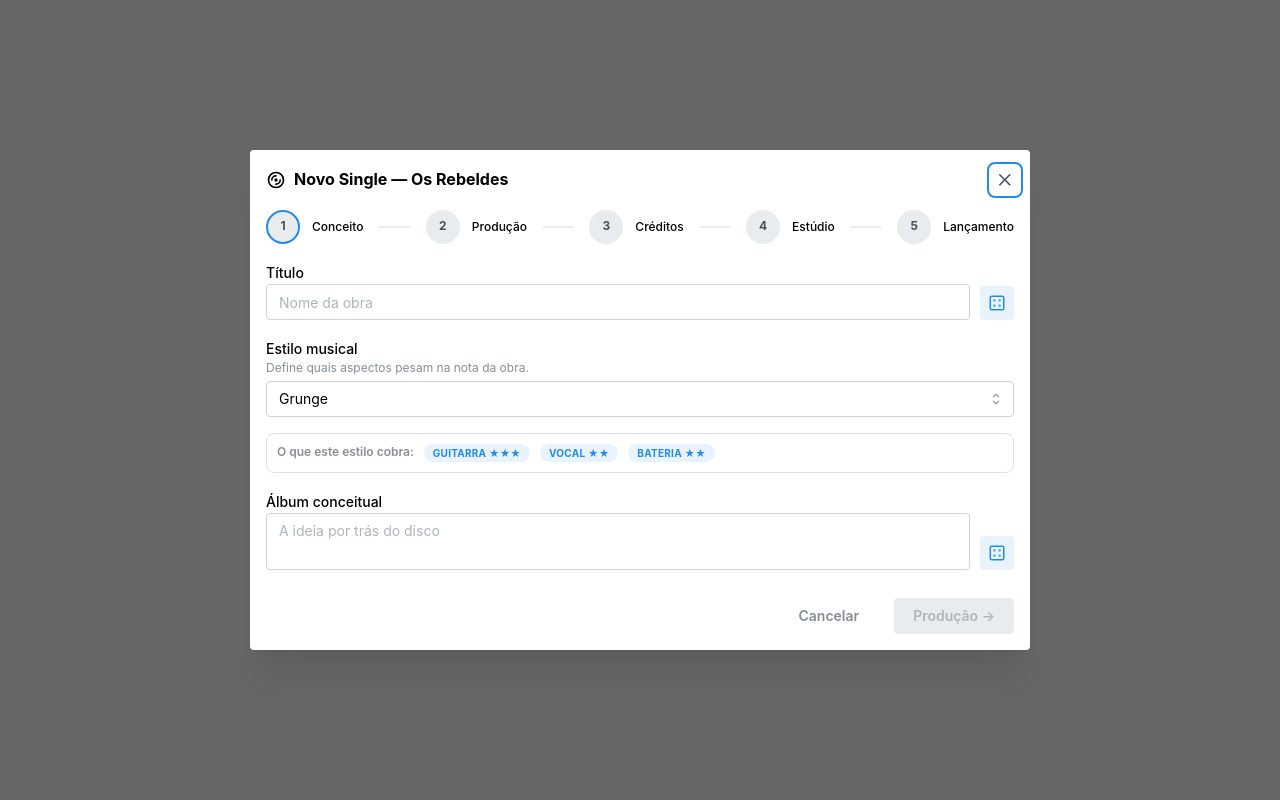
Scenario: ReleaseCreationModal › also fills an instrument from the instrument itself, ranked by skill
Type "Ruído Branco" into the field labelled "Título" at (618, 302), box [266,284,970,320]
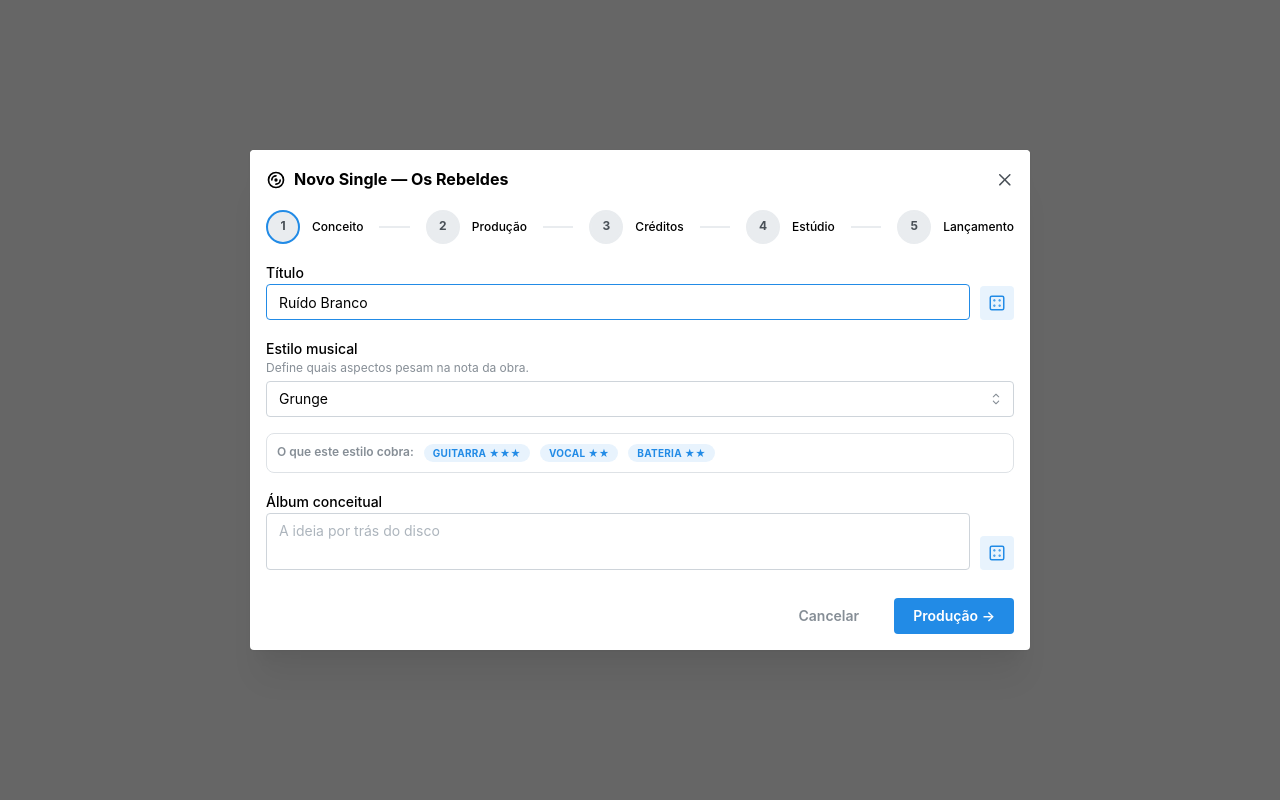
Click the button "Produção →" at (954, 616), box [894,598,1014,634]
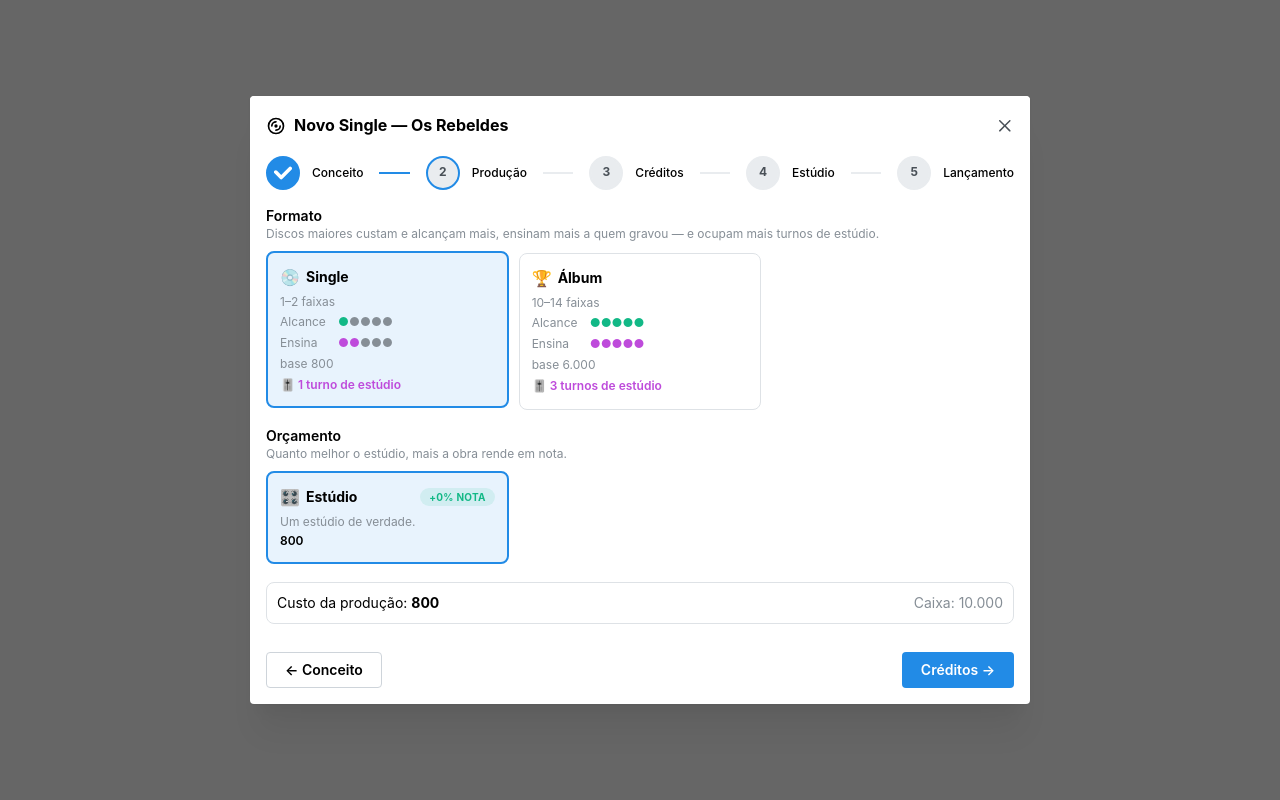
Click the button "Créditos →" at (958, 670), box [902,652,1014,688]
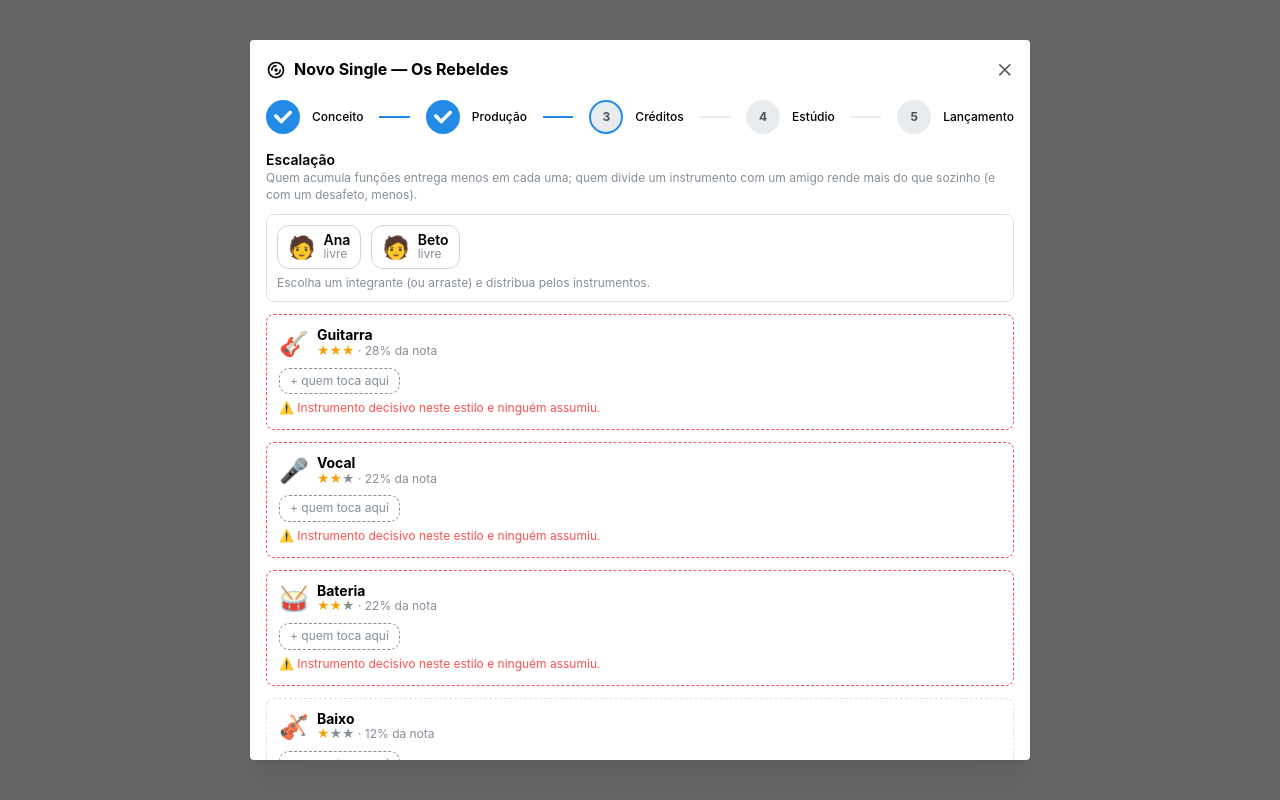
Click the button with aria-label "Escolher quem assina Vocal" at (339, 509), box [279,495,400,522]
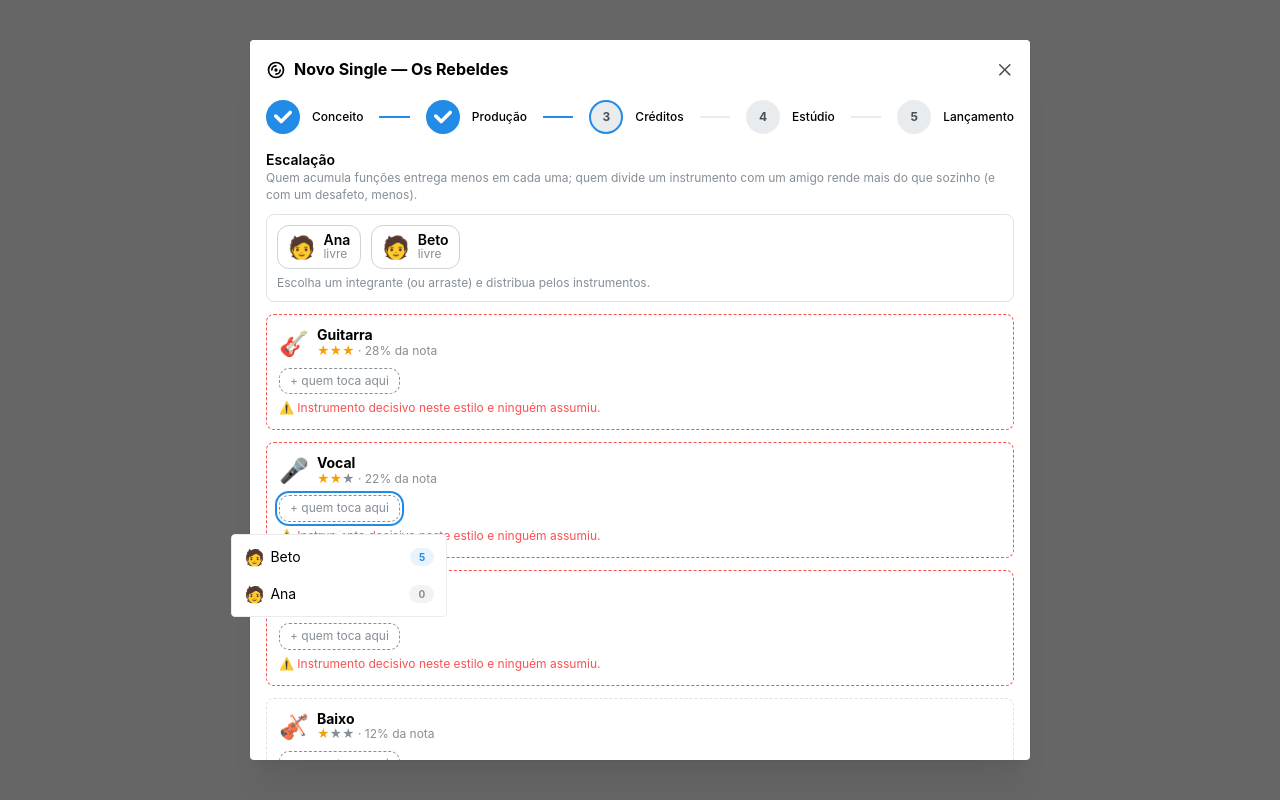
Click the button with aria-label "Creditar Beto em Vocal" at (339, 557), box [238,541,440,574]
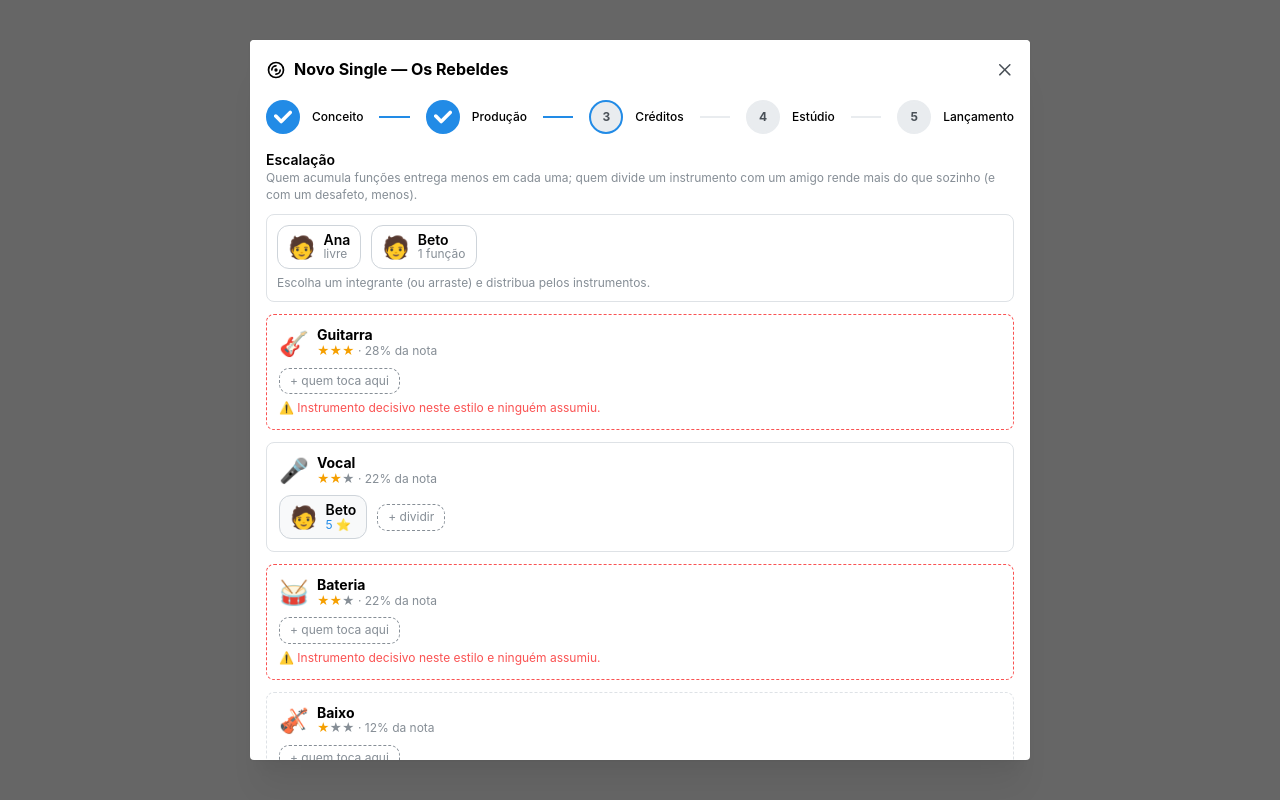
Expected: the button with aria-label "Remover Beto de Vocal" is shown, [279,495,367,539]
